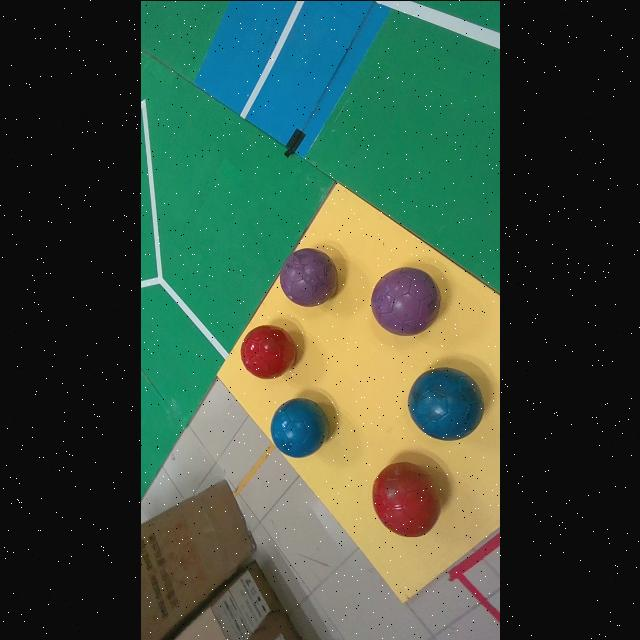B: (407, 366, 483, 440), (270, 398, 327, 457)
P: (371, 266, 440, 335), (279, 247, 336, 306)
R: (372, 461, 440, 537), (239, 324, 296, 378)
